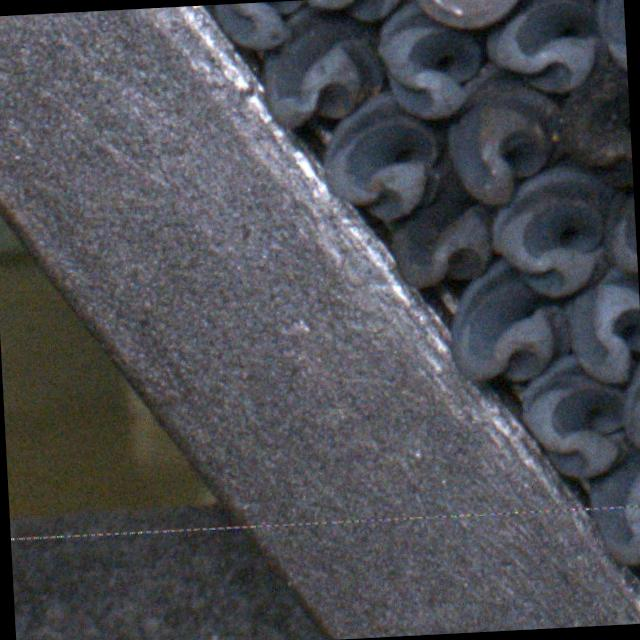tool_b: (485, 164, 617, 298), (320, 90, 442, 225), (448, 258, 574, 388), (446, 78, 568, 206), (261, 8, 386, 128), (516, 354, 630, 482), (373, 0, 484, 122), (481, 0, 606, 95), (391, 179, 499, 287), (562, 267, 640, 386), (558, 67, 634, 188), (207, 0, 317, 49), (602, 162, 638, 288), (408, 0, 544, 29), (587, 449, 640, 509), (592, 508, 640, 573), (594, 0, 628, 79), (301, 0, 415, 23), (620, 344, 640, 460)
